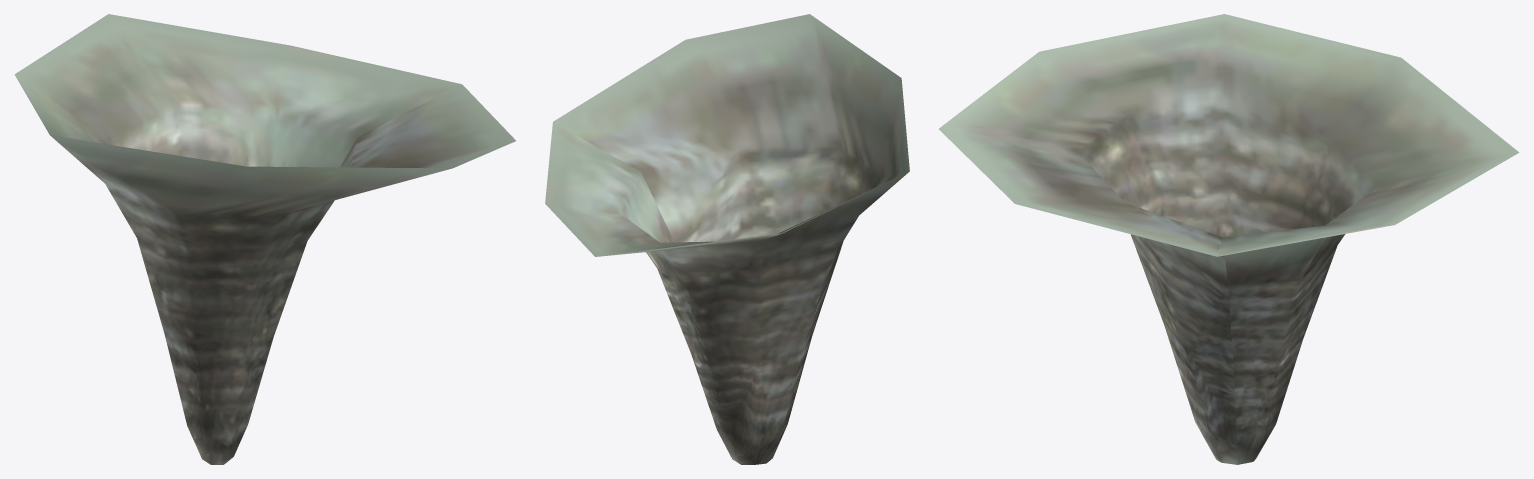
Rendered from TROLLHOLE02_PS-SECRETSTALAG33.fbx.
3 renders of one model, left to right at view 1: azimuth 30°, elevation 25°; view 2: azimuth 150°, elevation 25°; view 3: azimuth 270°, elevation 25°, orthographic. The views are drawn at different scales.
Visible parts, largest first — view 1: TROLLHOLE02_PS-SECRETSTALAG33; view 2: TROLLHOLE02_PS-SECRETSTALAG33; view 3: TROLLHOLE02_PS-SECRETSTALAG33.
Part boxes in pixels (left/top/right/bottom): TROLLHOLE02_PS-SECRETSTALAG33: left=14, top=14, right=515, bottom=464; TROLLHOLE02_PS-SECRETSTALAG33: left=545, top=14, right=909, bottom=464; TROLLHOLE02_PS-SECRETSTALAG33: left=939, top=14, right=1519, bottom=464.
Bounding box in the file's own units: 20471 × 18250 × 25492.
1 material, 1 textured.
